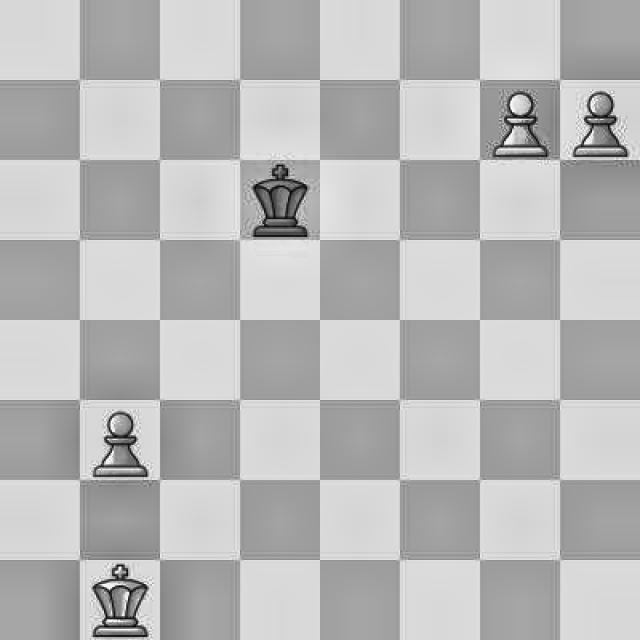black king: (248, 166, 316, 239)
white king: (94, 560, 152, 640)
white pawn: (88, 408, 158, 480), (492, 89, 554, 160), (573, 87, 628, 159)
